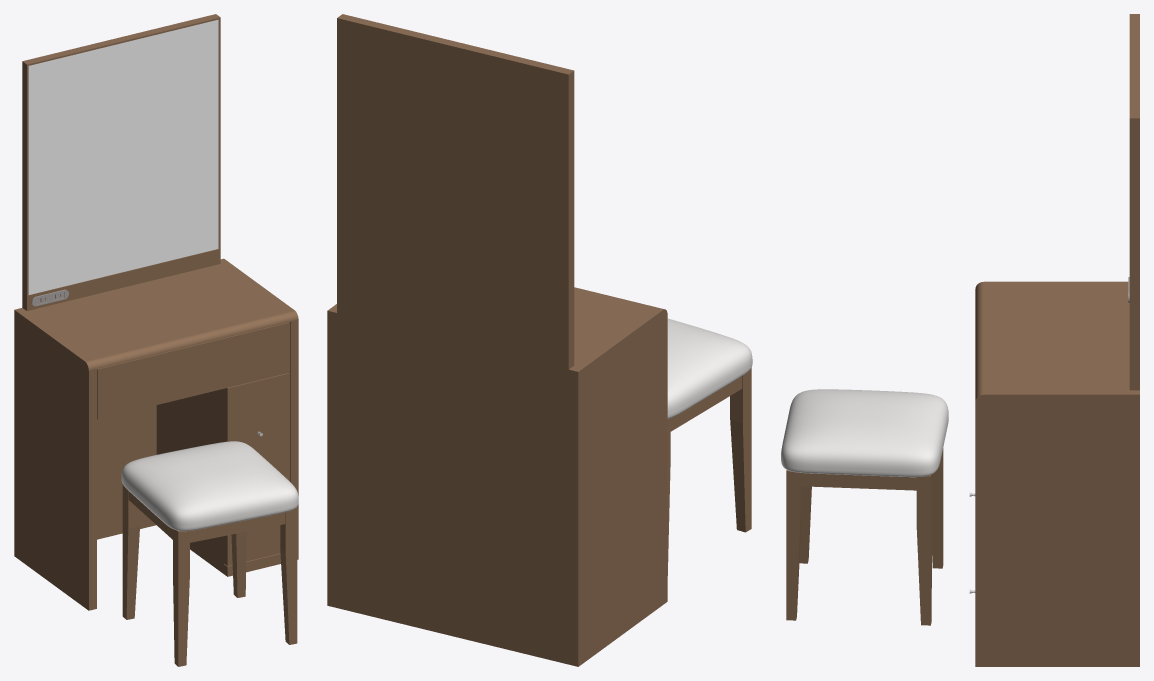
File: 518_ドレッサー.glb
The picture shows the model from 3 angles, left to right: view 1: azimuth 30°, elevation 25°; view 2: azimuth 150°, elevation 25°; view 3: azimuth 270°, elevation 25°; orthographic projection. The views are drawn at different scales.
Parts seen in each view (by area): view 1: Body, stool, hikidashi1, hikidashi2, hikidashi3; view 2: Body, stool; view 3: Body, stool.
Part boxes in pixels (<box>): Body: <box>14,14,298,610</box>; stool: <box>121,441,298,666</box>; hikidashi1: <box>97,322,289,419</box>; hikidashi2: <box>224,373,289,477</box>; hikidashi3: <box>224,477,289,565</box>; Body: <box>327,14,667,666</box>; stool: <box>667,318,752,575</box>; Body: <box>975,14,1139,666</box>; stool: <box>781,389,948,625</box>.
Size of the model in its own units: 0.65 by 1.46 by 0.8726.
